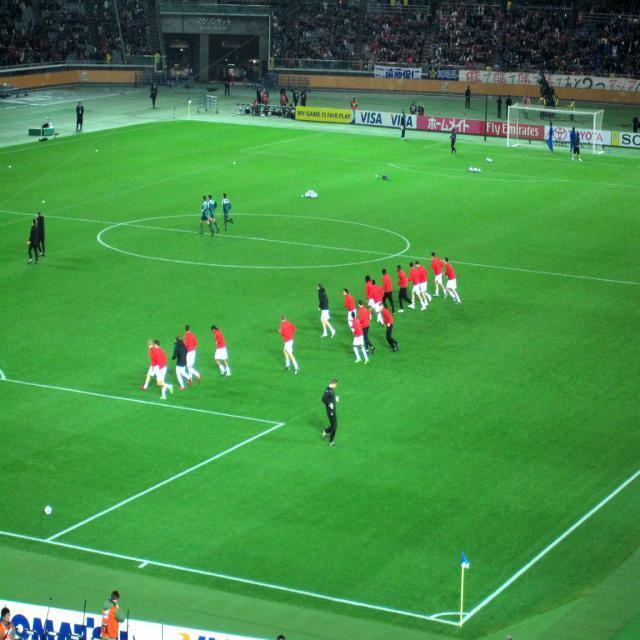football: (40, 497, 60, 523)
